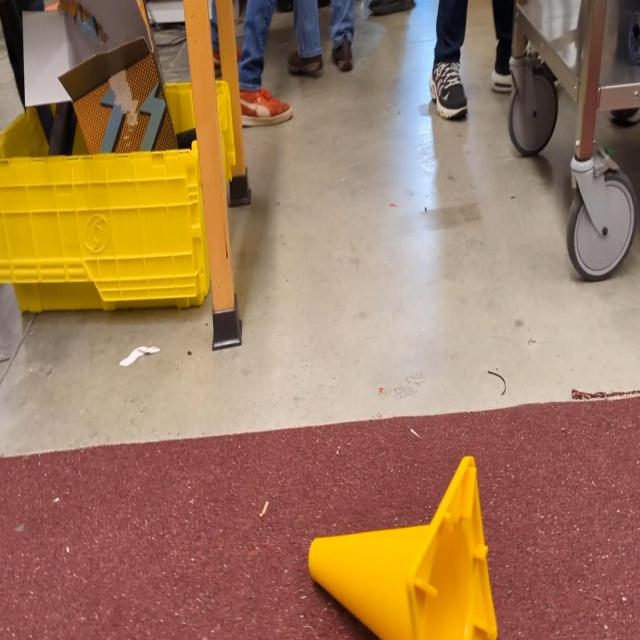frc_cone: (308, 450, 496, 640)
